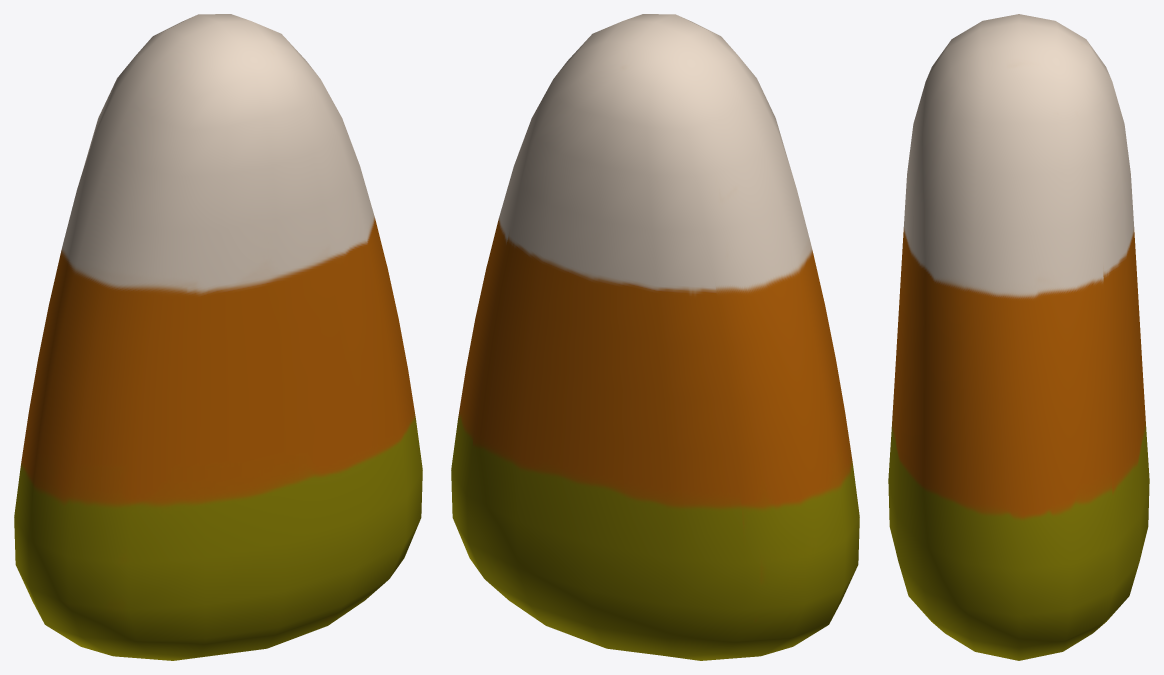
Rendered from CandyCorn.fbx.
The picture shows the model from 3 angles, left to right: view 1: azimuth 30°, elevation 25°; view 2: azimuth 150°, elevation 25°; view 3: azimuth 270°, elevation 25°; orthographic projection. The views are drawn at different scales.
Visible parts, largest first — view 1: CandyCorn; view 2: CandyCorn; view 3: CandyCorn.
Boxes of the visible parts, <box> form: CandyCorn: <box>14,14,422,660</box>; CandyCorn: <box>451,14,859,660</box>; CandyCorn: <box>888,14,1149,660</box>.
Bounding box in the file's own units: 1.16 × 1.79 × 0.71.
